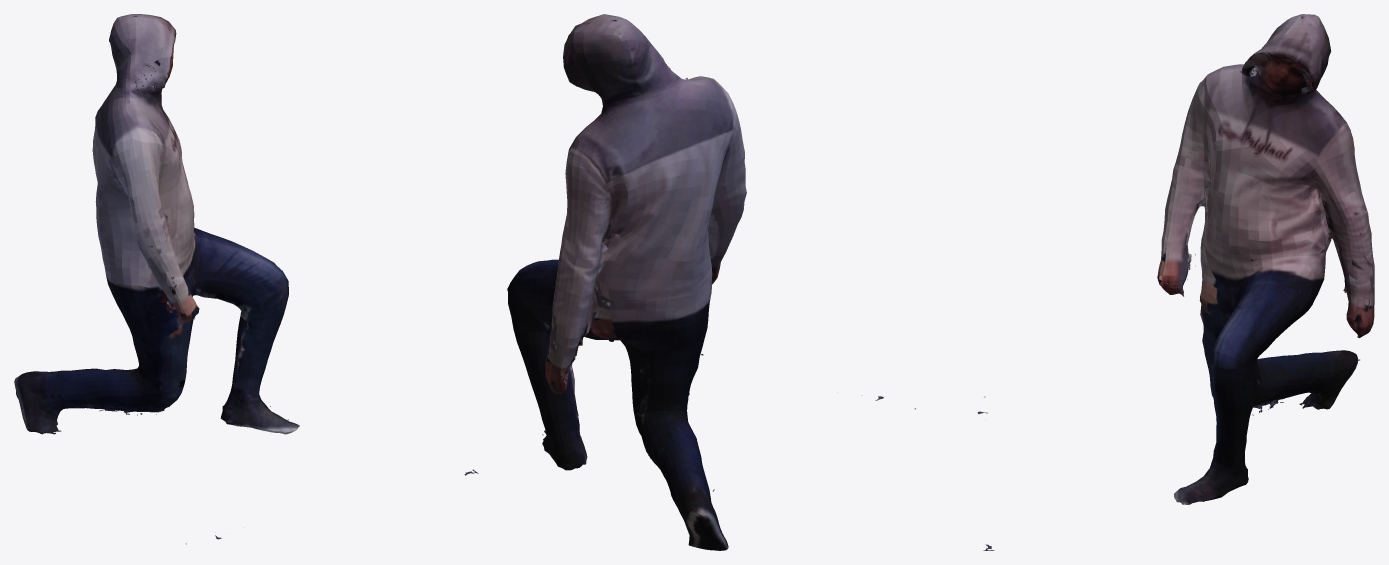
File: AB-death_0000054.obj
3 renders of one model, left to right at view 1: azimuth 30°, elevation 25°; view 2: azimuth 150°, elevation 25°; view 3: azimuth 270°, elevation 25°, orthographic. The views are drawn at different scales.
Parts seen in each view (by area): view 1: Retopo_frame_0000054_mesh; view 2: Retopo_frame_0000054_mesh; view 3: Retopo_frame_0000054_mesh.
Part boxes in pixels (<box>): Retopo_frame_0000054_mesh: <box>14,14,478,544</box>; Retopo_frame_0000054_mesh: <box>507,14,915,550</box>; Retopo_frame_0000054_mesh: <box>977,14,1374,550</box>.
Bounding box in the file's own units: 1.22 × 1.46 × 1.22.
1 material, 1 textured.
